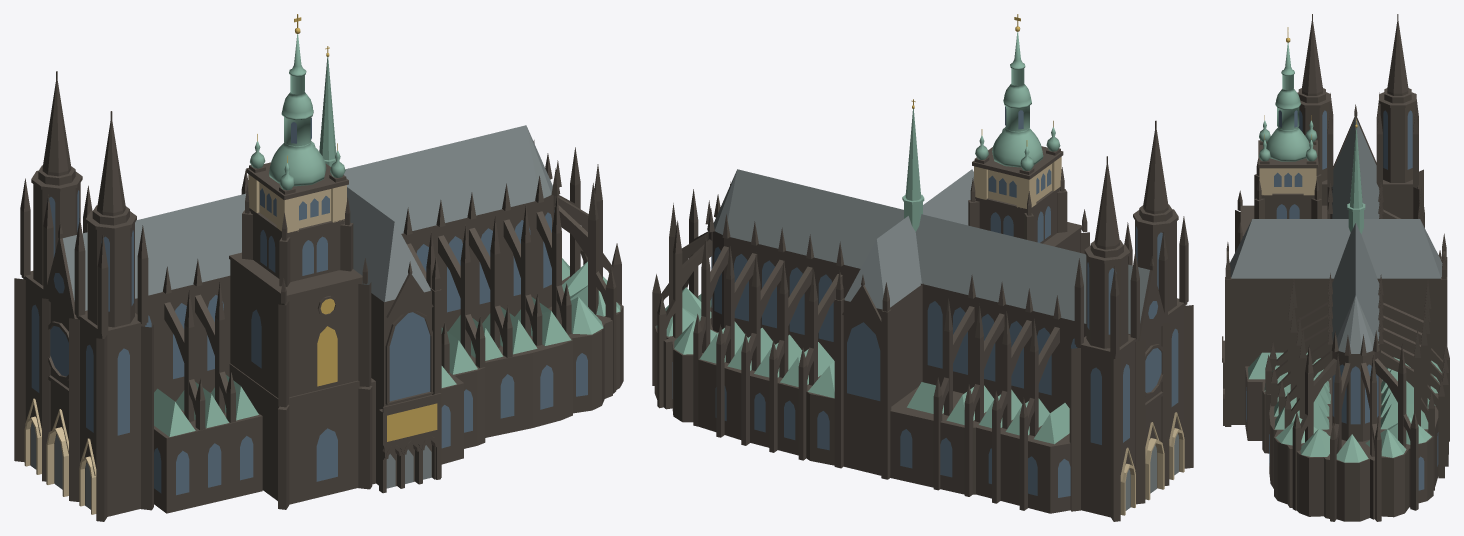
File: prague-st-vitus-cathedral.glb
The picture shows the model from 3 angles, left to right: view 1: azimuth 30°, elevation 25°; view 2: azimuth 150°, elevation 25°; view 3: azimuth 270°, elevation 25°; orthographic projection. The views are drawn at different scales.
Visible parts, largest first — view 1: St. Vitus Cathedral; view 2: St. Vitus Cathedral; view 3: St. Vitus Cathedral.
Part boxes in pixels (x1,y1,x2,y2): St. Vitus Cathedral: [14, 14, 623, 521]; St. Vitus Cathedral: [652, 14, 1193, 521]; St. Vitus Cathedral: [1222, 14, 1449, 521].
Bounding box in the file's own units: 125 × 99 × 56.75.
